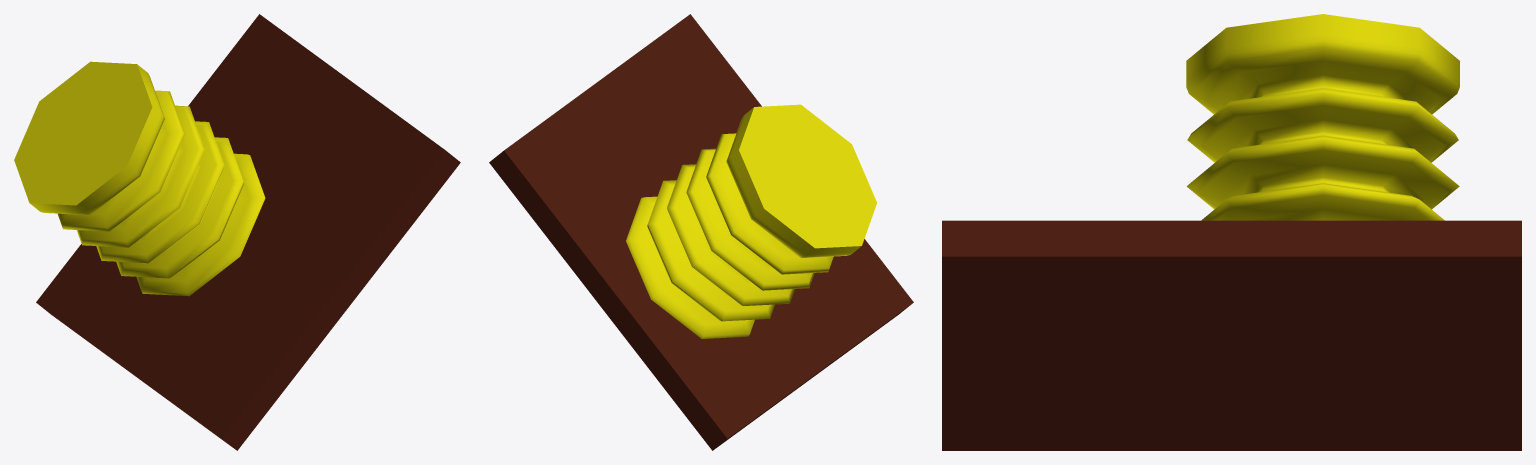
Rendered from Spring.FBX.
The picture shows the model from 3 angles, left to right: view 1: azimuth 30°, elevation 25°; view 2: azimuth 150°, elevation 25°; view 3: azimuth 270°, elevation 25°; orthographic projection. The views are drawn at different scales.
Parts seen in each view (by area): view 1: Box001, Hose001; view 2: Box001, Hose001; view 3: Box001, Hose001.
Part boxes in pixels (<box>): Box001: <box>36,14,460,450</box>; Hose001: <box>14,61,265,296</box>; Box001: <box>489,14,913,450</box>; Hose001: <box>626,104,876,338</box>; Box001: <box>942,220,1521,450</box>; Hose001: <box>1186,14,1459,220</box>.
Size of the model in its own units: 19.43 by 17.53 by 20.29.
